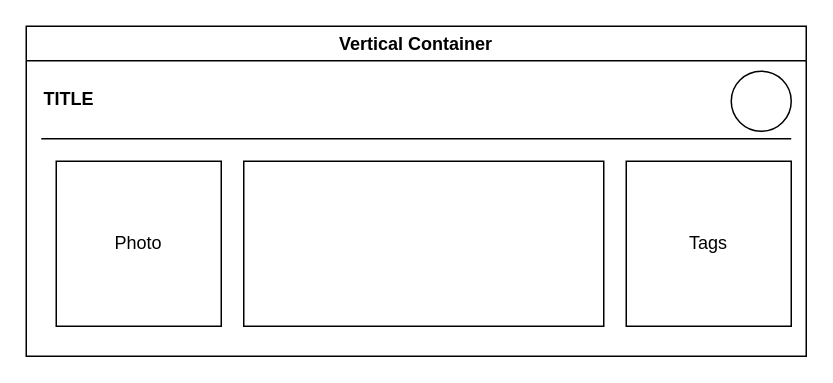
Image size: 833x383. Some labels were removed from this diagram. Here are the shapes that lost their labels. From the top down, the centre of each, then its label:
At [760,100]: "User".
At [423,243]: "Description".
